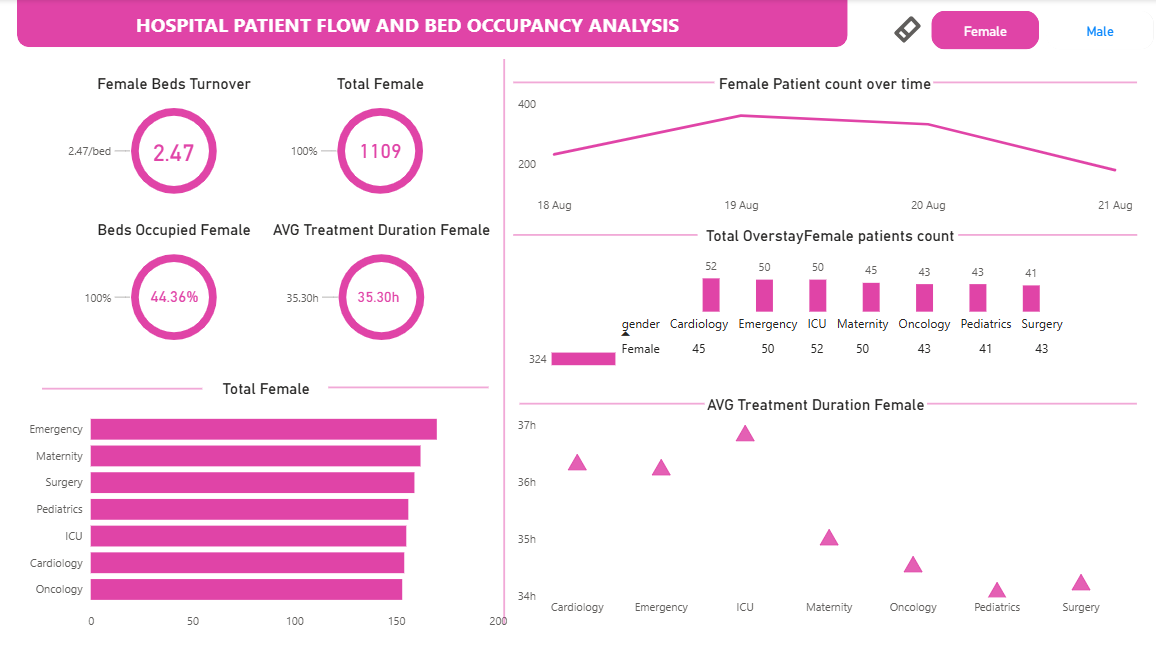

What the dashboard file says about the page in this screenshot:
{"tool":"powerbi","page":{"name":"Hoapital_Dashboard","canvas":[1280,720],"ordinal":0},"visuals":[{"type":"donutChart","fields":{"Y":["Sum(vw_patient_demographics.total_patients)"],"Category":["vw_patient_demographics.gender"]},"box":[281,82,290,150],"z":0},{"type":"lineChart","fields":{"Y":["Sum(vw_patient_volume_trend.patient_count)"],"Series":["vw_patient_volume_trend.gender"],"Category":["vw_patient_volume_trend.admission_date.Variation.Date Hierarchy.Year","vw_patient_volume_trend.admission_date.Variation.Date Hierarchy.Quarter","vw_patient_volume_trend.admission_date.Variation.Date Hierarchy.Month","vw_patient_volume_trend.admission_date.Variation.Date Hierarchy.Day"]},"box":[571.9,81.7,684.7,162.4],"z":1000},{"type":"barChart","fields":{"Category":["vw_department_inflow.department"],"Y":["Sum(vw_department_inflow.patient_count)"],"Series":["vw_department_inflow.gender"]},"box":[32,417,539,284],"z":2000},{"type":"pivotTable","fields":{"Values":["Sum(vw_overstay_patients.overstay_count)"],"Rows":["vw_overstay_patients.gender"],"Columns":["vw_overstay_patients.department"]},"box":[681,340,559,79],"z":3000},{"type":"donutChart","fields":{"Category":["vw_bed_turnover_rate.gender"],"Y":["Sum(vw_bed_turnover_rate.bed_turnover_rate)"]},"box":[55,82,290,150],"z":4000},{"type":"advancedSlicerVisual","fields":{"Values":["dim_patient.gender"]},"box":[1026,8,254,52],"z":5000},{"type":"scatterChart","fields":{"X":["vw_avg_treatment_duration.department"],"Y":["Sum(vw_avg_treatment_duration.avg_treatment_duration)"],"Series":["vw_avg_treatment_duration.gender"]},"box":[572,435,664,251],"z":6000},{"type":"clusteredBarChart","fields":{"Category":["vw_overstay_patients.gender"],"Y":["Sum(vw_overstay_patients.overstay_count)"]},"box":[584,357,105,70],"z":7000},{"type":"clusteredColumnChart","fields":{"Category":["vw_overstay_patients.department"],"Y":["Sum(vw_overstay_patients.overstay_count)"]},"box":[775,274,382,75],"z":8000},{"type":"card","fields":{"Values":["Sum(vw_patient_demographics.total_patients)"]},"box":[357,142,139,51],"z":9000},{"type":"card","fields":{"Values":["Sum(vw_bed_turnover_rate.bed_turnover_rate)"]},"box":[106,127,187,81],"z":10000},{"type":"donutChart","fields":{"Y":["Avg(vw_avg_treatment_duration.avg_treatment_duration)"],"Category":["vw_avg_treatment_duration.gender"]},"box":[282.1,243.3,290,150],"z":11000},{"type":"donutChart","fields":{"Series":["vw_bed_occupancy.gender"],"Y":["Sum(vw_bed_occupancy.bed_occupancy_percent)"]},"box":[55,243,290,150],"z":12000},{"type":"card","fields":{"Values":["Avg(vw_avg_treatment_duration.avg_treatment_duration)"]},"box":[369,302.2,114.4,52.2],"z":13000},{"type":"card","fields":{"Values":["Sum(vw_bed_occupancy.bed_occupancy_percent)"]},"box":[129.8,301.1,144.4,53.3],"z":14000},{"type":"shape","box":[27,0,912,53],"z":15000},{"type":"textbox","box":[659.5,250,520.4,29.2],"z":16000},{"type":"textbox","box":[27.4,8.2,857.6,38.4],"z":17000},{"type":"shape","box":[545,66,35,620],"z":18000},{"type":"shape","box":[368.6,417.3,176,18.5],"z":19000},{"type":"shape","box":[1060.2,250,196.5,18.5],"z":20000},{"type":"shape","box":[579.7,434.8,203.3,18.5],"z":21000},{"type":"shape","box":[55.4,418.2,176,18.5],"z":25000},{"type":"shape","box":[572.9,81.7,220.8,18.5],"z":26000},{"type":"shape","box":[1032.9,81.7,223.7,18.5],"z":27000},{"type":"shape","box":[572.9,250,202.3,18.5],"z":28000},{"type":"shape","box":[1026.1,434.8,230.5,18.5],"z":29000},{"type":"actionButton","box":[987.2,15.6,38.9,37],"z":30000}]}

Visuals, with their boxes in screenshot pixels (x1, y1, x2, y2), scaled from the page's 1280x720 canvas onto the 1156x652 screenshot:
donutChart - Sum(vw_patient_demographics.total_patients) x vw_patient_demographics.gender: left=254, top=74, right=516, bottom=210
lineChart - Sum(vw_patient_volume_trend.patient_count) x vw_patient_volume_trend.gender: left=516, top=74, right=1135, bottom=221
barChart - vw_department_inflow.department x Sum(vw_department_inflow.patient_count): left=29, top=378, right=516, bottom=635
pivotTable - Sum(vw_overstay_patients.overstay_count) x vw_overstay_patients.gender: left=615, top=308, right=1120, bottom=379
donutChart - vw_bed_turnover_rate.gender x Sum(vw_bed_turnover_rate.bed_turnover_rate): left=50, top=74, right=312, bottom=210
advancedSlicerVisual - dim_patient.gender: left=927, top=7, right=1155, bottom=54
scatterChart - vw_avg_treatment_duration.department x Sum(vw_avg_treatment_duration.avg_treatment_duration): left=517, top=394, right=1116, bottom=621
clusteredBarChart - vw_overstay_patients.gender x Sum(vw_overstay_patients.overstay_count): left=527, top=323, right=622, bottom=387
clusteredColumnChart - vw_overstay_patients.department x Sum(vw_overstay_patients.overstay_count): left=700, top=248, right=1045, bottom=316
card - Sum(vw_patient_demographics.total_patients): left=322, top=129, right=448, bottom=175
card - Sum(vw_bed_turnover_rate.bed_turnover_rate): left=96, top=115, right=265, bottom=188
donutChart - Avg(vw_avg_treatment_duration.avg_treatment_duration) x vw_avg_treatment_duration.gender: left=255, top=220, right=517, bottom=356
donutChart - vw_bed_occupancy.gender x Sum(vw_bed_occupancy.bed_occupancy_percent): left=50, top=220, right=312, bottom=356
card - Avg(vw_avg_treatment_duration.avg_treatment_duration): left=333, top=274, right=437, bottom=321
card - Sum(vw_bed_occupancy.bed_occupancy_percent): left=117, top=273, right=248, bottom=321
shape: left=24, top=0, right=848, bottom=48
textbox: left=596, top=226, right=1066, bottom=253
textbox: left=25, top=7, right=799, bottom=42
shape: left=492, top=60, right=524, bottom=621
shape: left=333, top=378, right=492, bottom=395
shape: left=957, top=226, right=1135, bottom=243
shape: left=524, top=394, right=707, bottom=410
shape: left=50, top=379, right=209, bottom=395
shape: left=517, top=74, right=717, bottom=91
shape: left=933, top=74, right=1135, bottom=91
shape: left=517, top=226, right=700, bottom=243
shape: left=927, top=394, right=1135, bottom=410
actionButton: left=892, top=14, right=927, bottom=48
